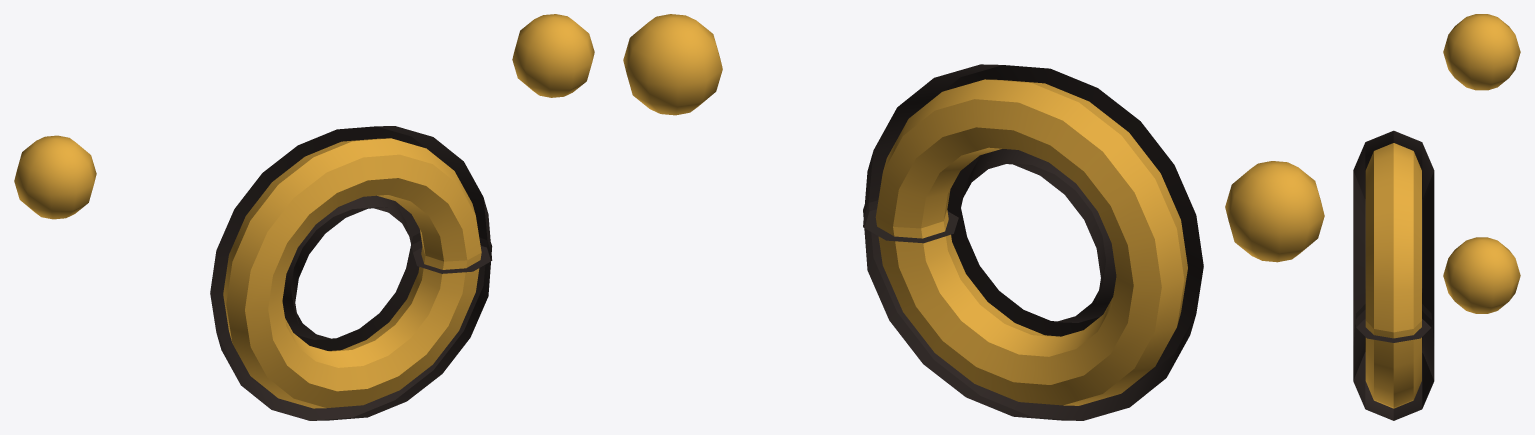
The model's file is col_ring.fbx.
The picture shows the model from 3 angles, left to right: view 1: azimuth 30°, elevation 25°; view 2: azimuth 150°, elevation 25°; view 3: azimuth 270°, elevation 25°; orthographic projection. The views are drawn at different scales.
Visible parts, largest first — view 1: col_ring_C_E2A93B, col_ring_Outline; view 2: col_ring_C_E2A93B, col_ring_Outline; view 3: col_ring_C_E2A93B, col_ring_Outline.
Part boxes in pixels (x1,y1,x2,y2): col_ring_C_E2A93B: [14, 14, 594, 408]; col_ring_Outline: [210, 126, 492, 420]; col_ring_C_E2A93B: [623, 14, 1324, 405]; col_ring_Outline: [863, 64, 1203, 420]; col_ring_C_E2A93B: [1365, 14, 1520, 408]; col_ring_Outline: [1353, 130, 1434, 420].
Size of the model in its own units: 0.3418 by 0.175 by 0.095.
